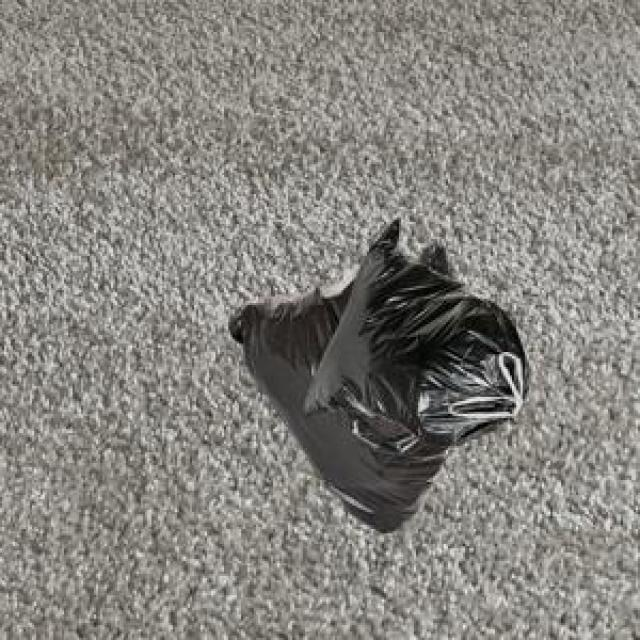waste: (230, 220, 529, 531)
